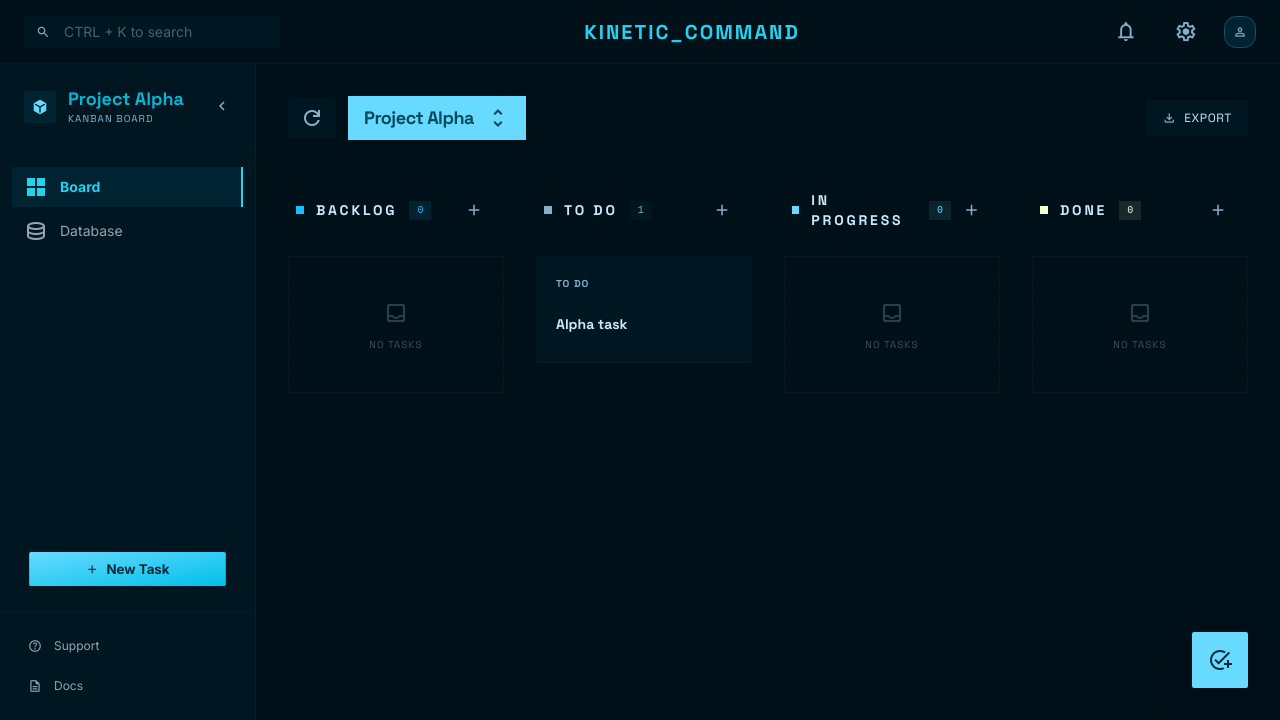
App › switching projects via the project modal reloads tasks for the new project
expect the heading "Alpha task" is shown: met, box [556,315,628,333]
Click the button with test id "project-selector-btn".
click(437, 118)  # box [348,96,526,140]
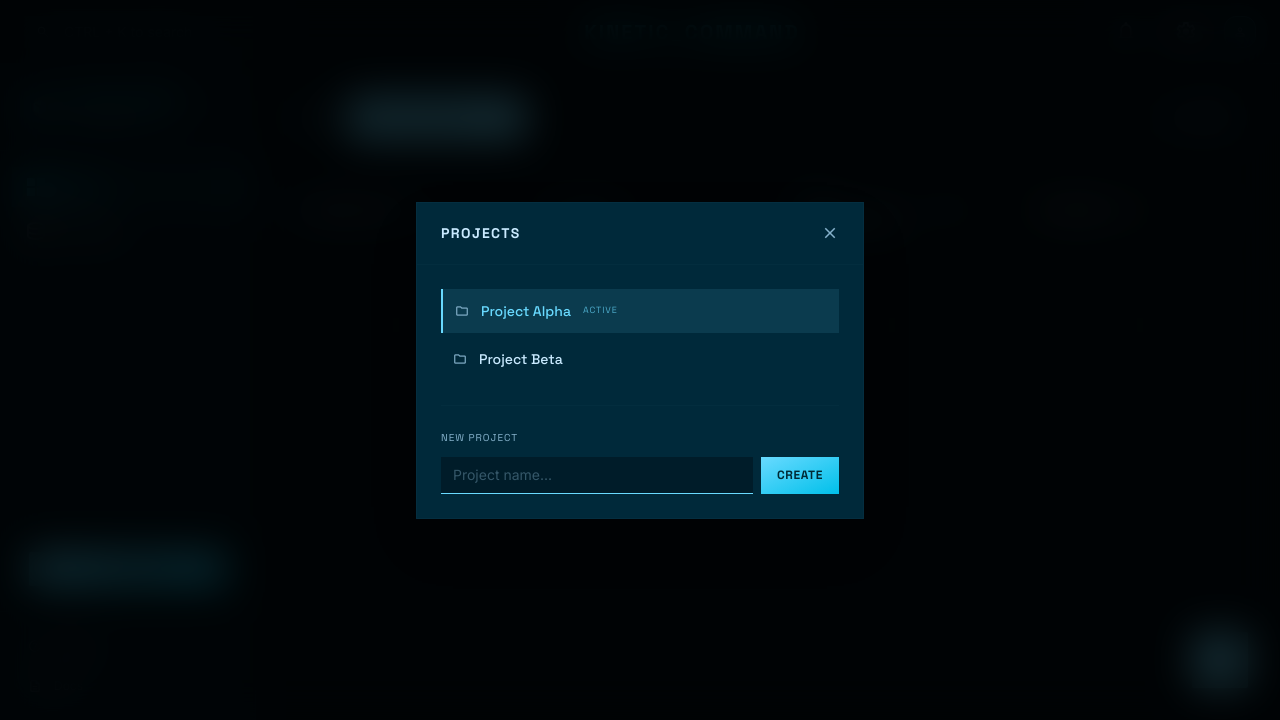
Click the text "Project Beta".
click(521, 358)  # box [479,348,563,368]
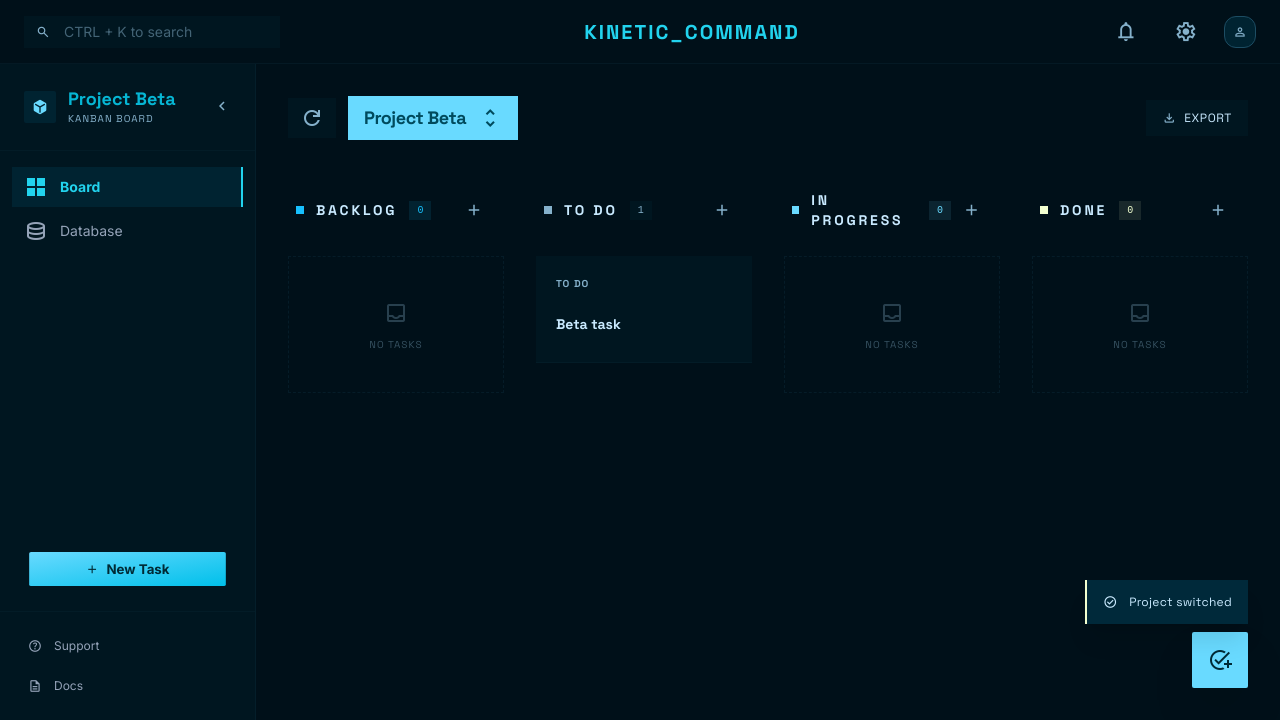
expect the heading "Beta task" is shown: met, box [556,315,621,333]
